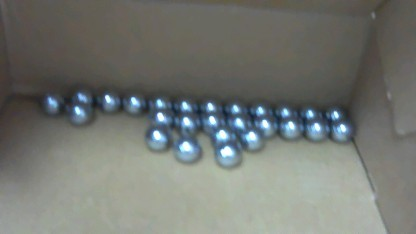ironball: (213, 143, 244, 172), (143, 123, 170, 150), (198, 92, 226, 118), (94, 88, 121, 113), (175, 137, 200, 162), (66, 84, 93, 107), (41, 88, 64, 114), (244, 97, 271, 118), (251, 114, 275, 137), (122, 89, 143, 115), (276, 118, 298, 142), (306, 120, 330, 142), (331, 116, 350, 143), (69, 100, 89, 125), (273, 99, 297, 119), (299, 104, 325, 122), (241, 128, 258, 153), (149, 92, 168, 114), (212, 127, 237, 143), (152, 110, 173, 128), (177, 113, 199, 130), (226, 117, 249, 133), (223, 97, 244, 114), (203, 113, 221, 132), (177, 94, 192, 113), (324, 104, 341, 119)
